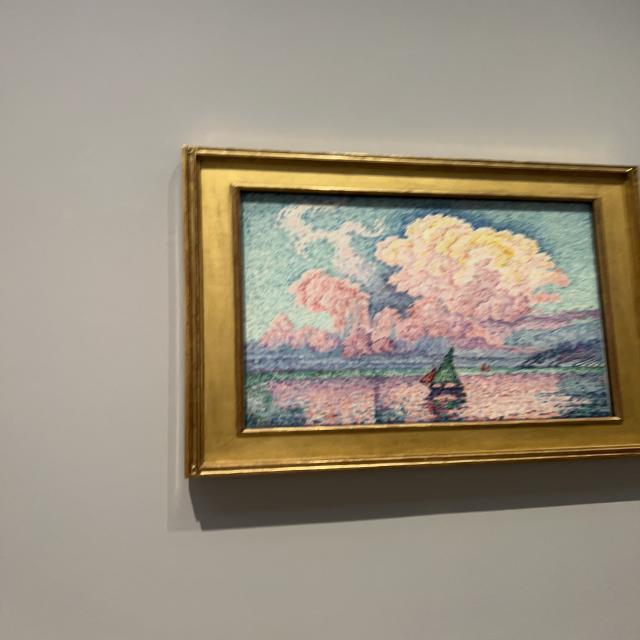sunrise: (244, 194, 612, 425)
